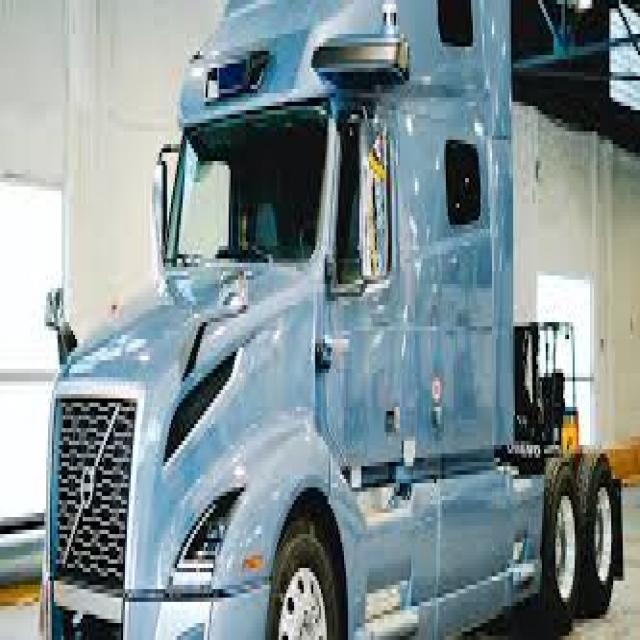truck: (34, 0, 620, 640)
